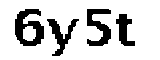5: (83, 3, 114, 50)
6: (11, 3, 46, 51)
t: (114, 11, 139, 54)
y: (45, 14, 82, 60)
